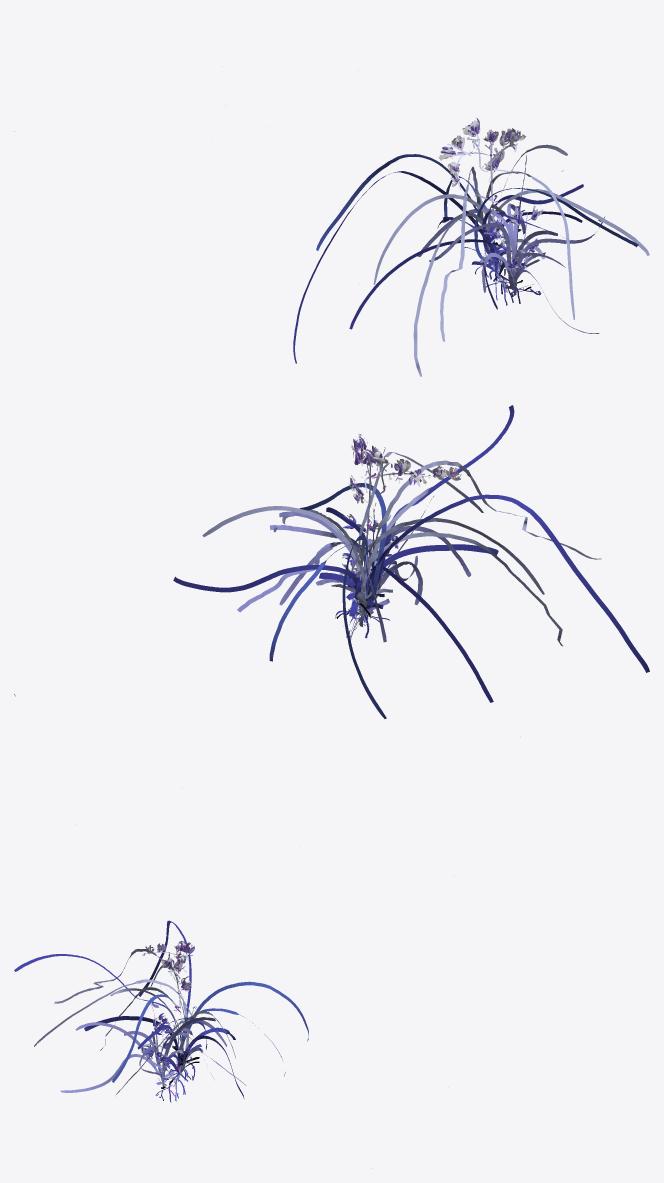
3 renders of one model, top to bottom at view 1: azimuth 30°, elevation 25°; view 2: azimuth 150°, elevation 25°; view 3: azimuth 270°, elevation 25°, orthographic. The views are drawn at different scales.
Parts seen in each view (by area): view 1: brush_DoubleTaperedFlat_g4_b0, brush_DoubleTaperedFlat_g2_b0, brush_Marker_g4_b0, brush_Comet_g4_b0; view 2: brush_DoubleTaperedFlat_g4_b0, brush_DoubleTaperedFlat_g2_b0, brush_Marker_g4_b0, brush_Comet_g4_b0; view 3: brush_DoubleTaperedFlat_g4_b0, brush_DoubleTaperedFlat_g2_b0, brush_Marker_g4_b0.
Boxes of the visible parts, x1=… form: brush_DoubleTaperedFlat_g4_b0: x1=293, y1=120, x2=649, y2=376; brush_DoubleTaperedFlat_g2_b0: x1=417, y1=155, x2=604, y2=333; brush_Marker_g4_b0: x1=447, y1=127, x2=540, y2=305; brush_Comet_g4_b0: x1=441, y1=118, x2=520, y2=197; brush_DoubleTaperedFlat_g4_b0: x1=173, y1=405, x2=649, y2=718; brush_DoubleTaperedFlat_g2_b0: x1=237, y1=496, x2=471, y2=642; brush_Marker_g4_b0: x1=335, y1=444, x2=457, y2=640; brush_Comet_g4_b0: x1=350, y1=437, x2=454, y2=522; brush_DoubleTaperedFlat_g4_b0: x1=14, y1=920, x2=308, y2=1100; brush_DoubleTaperedFlat_g2_b0: x1=60, y1=998, x2=246, y2=1092; brush_Marker_g4_b0: x1=142, y1=943, x2=195, y2=1102.
Size of what is drawn, in the model's own units: 55.95 by 23.43 by 77.46.
